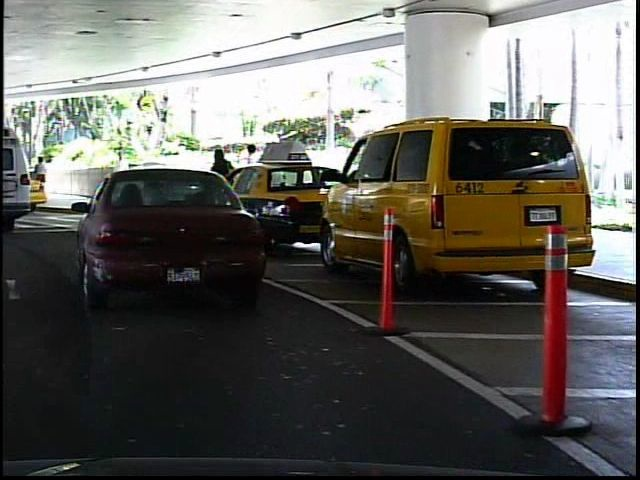person: (208, 141, 241, 211), (243, 138, 271, 211), (110, 145, 134, 204), (33, 153, 54, 199)
